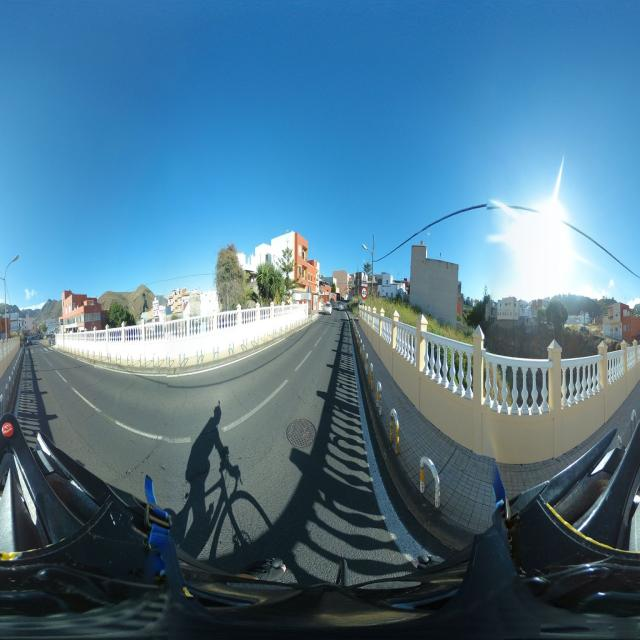car: (324, 302, 332, 315)
